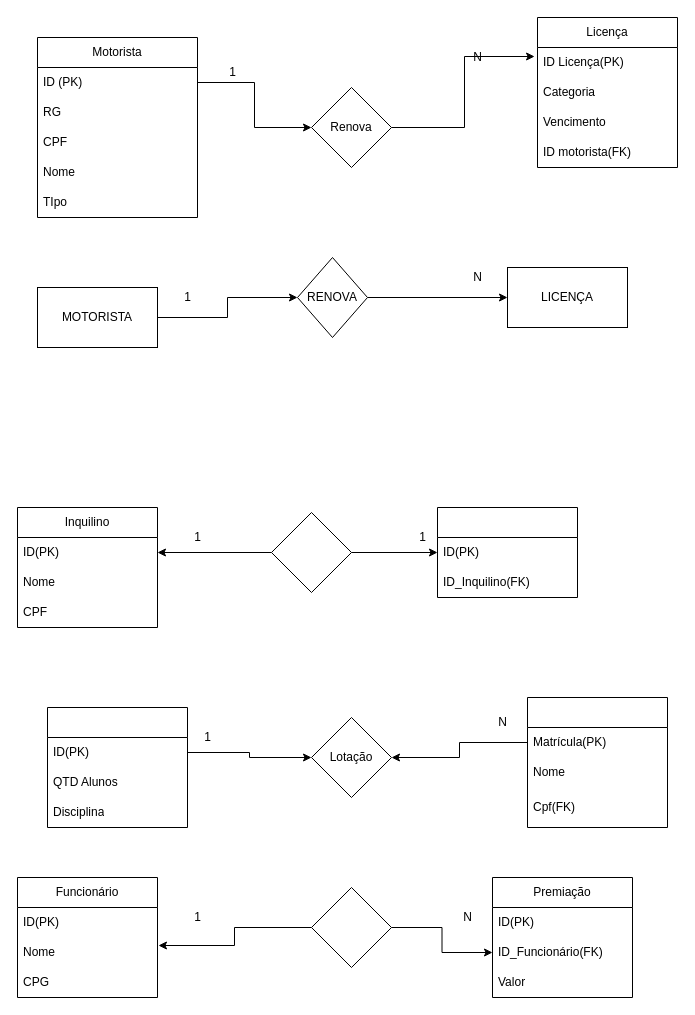
The diagram is 695 pixels wide and 1015 high, and some of its shapes have lost their labels. Each missing label, with the box of its shape:
Aluno: (526, 696, 668, 828)
Garagem: (270, 512, 352, 592)
Receber: (310, 886, 392, 968)
Sala de aula: (46, 706, 188, 828)
Vaga: (436, 506, 578, 598)
